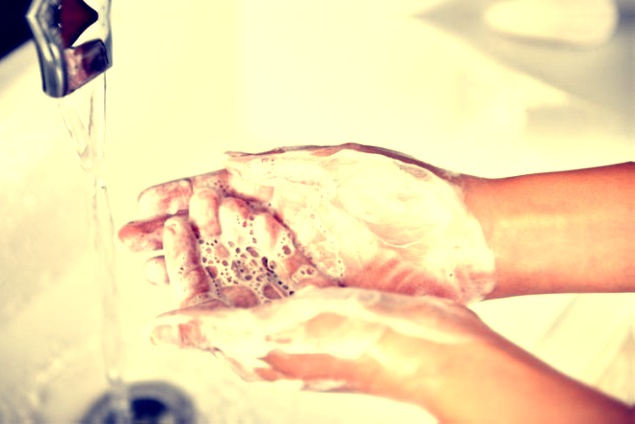washing hand: (14, 34, 522, 396)
